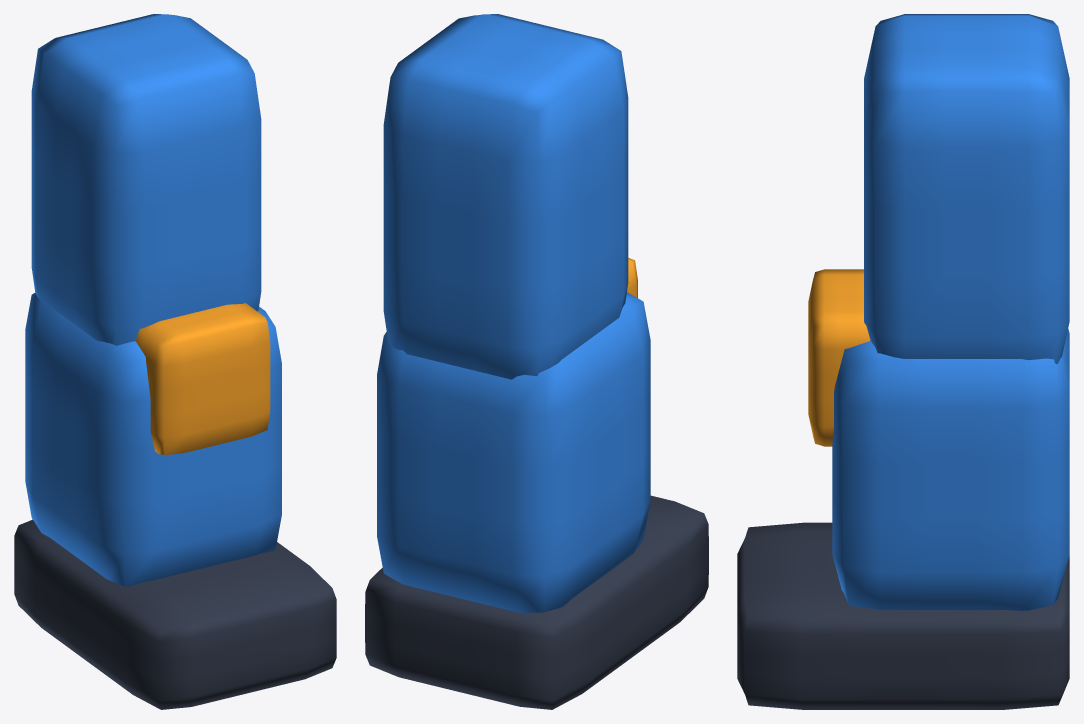
Rendered from leg_apex.obj.
3 renders of one model, left to right at view 1: azimuth 30°, elevation 25°; view 2: azimuth 150°, elevation 25°; view 3: azimuth 270°, elevation 25°, orthographic. The views are drawn at different scales.
Bounding box in the file's own units: 0.3 × 0.875 × 0.42.
